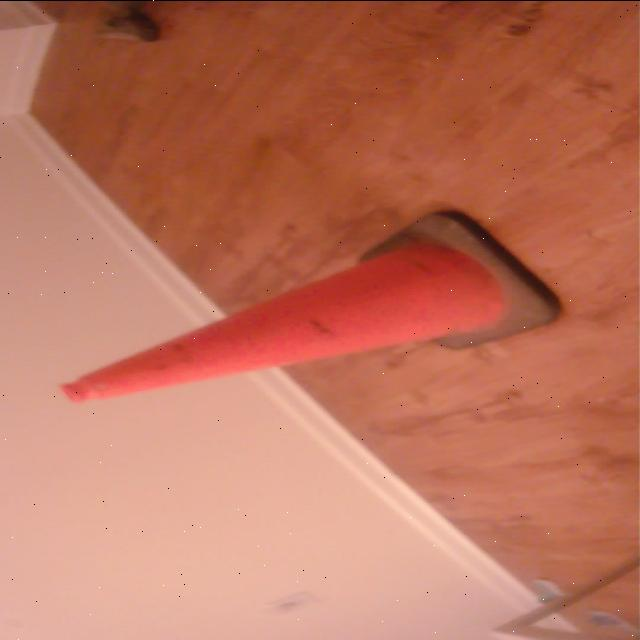traffic cone: (53, 206, 569, 410)
